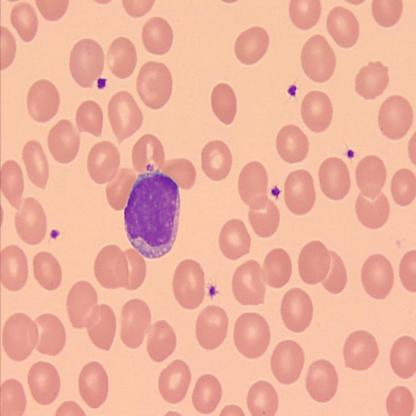Atypical lymphocyte: (125, 164, 182, 260)
